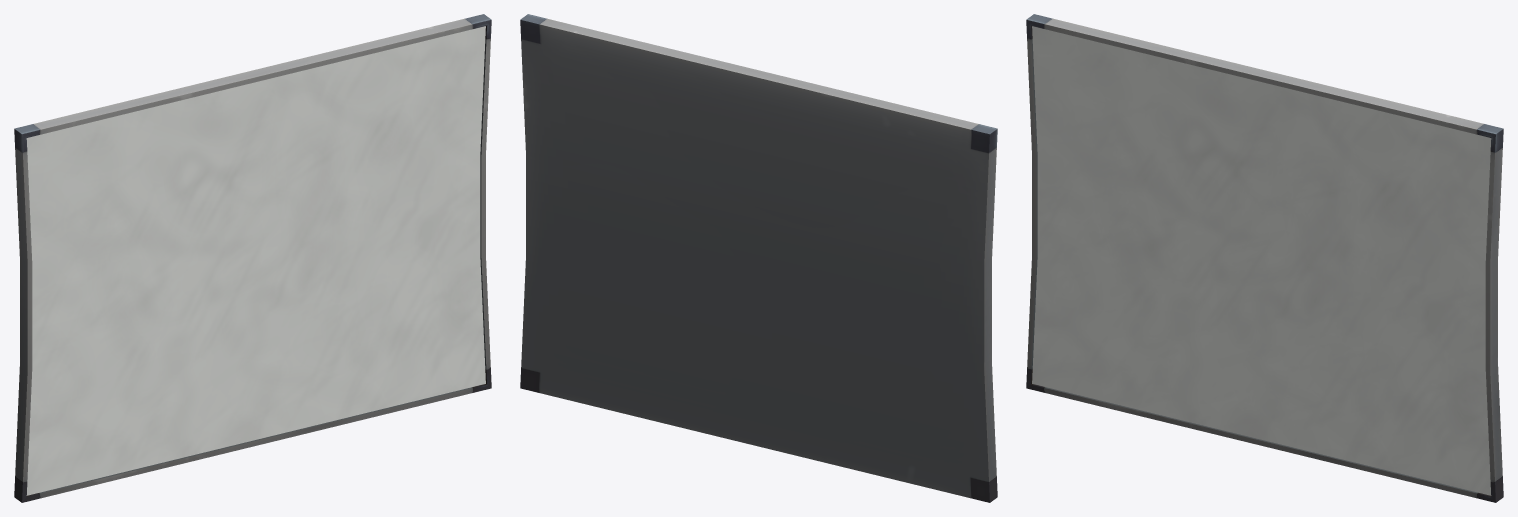
Rendered from OfficeWhiteBoard01_2.FBX.
The picture shows the model from 3 angles, left to right: view 1: azimuth 30°, elevation 25°; view 2: azimuth 150°, elevation 25°; view 3: azimuth 330°, elevation 25°; orthographic projection.
Parts seen in each view (by area): view 1: OfficeWhiteBoard01_2; view 2: OfficeWhiteBoard01_2; view 3: OfficeWhiteBoard01_2.
Part boxes in pixels (box(x1,y1,x2,y2)): OfficeWhiteBoard01_2: box(14, 14, 491, 502); OfficeWhiteBoard01_2: box(520, 14, 997, 502); OfficeWhiteBoard01_2: box(1026, 14, 1503, 502).
Size of what is drawn, in the model's own units: 1.5 by 1.13 by 0.0433.
